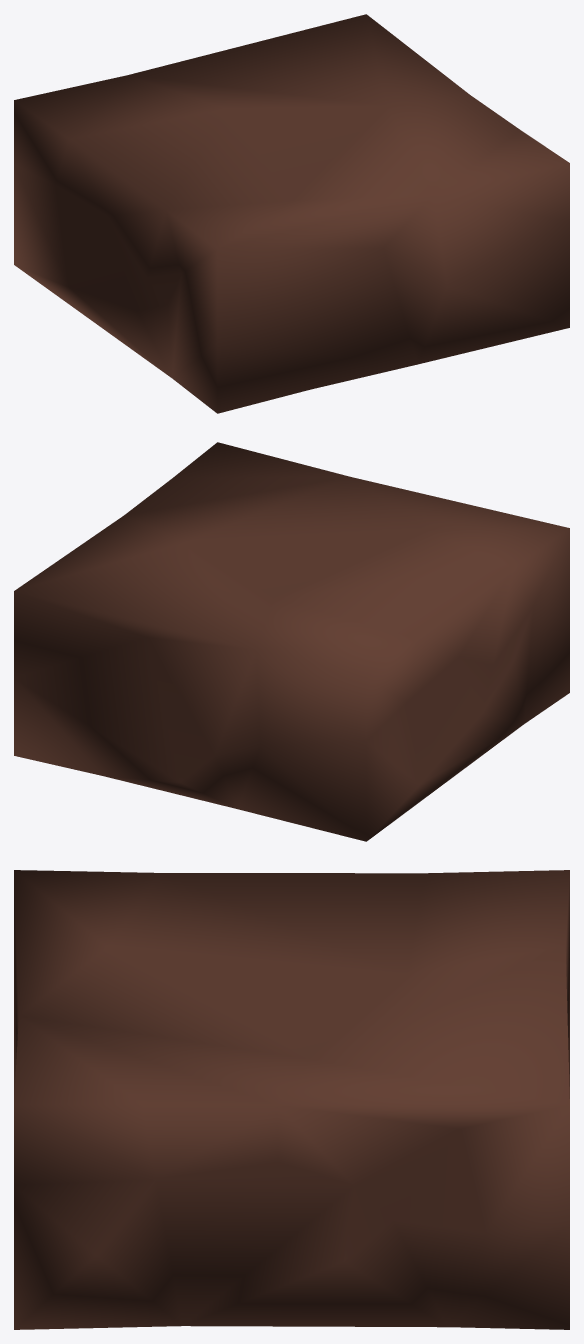
Rendered from underrock_1.glb.
The picture shows the model from 3 angles, top to bottom: view 1: azimuth 30°, elevation 25°; view 2: azimuth 150°, elevation 25°; view 3: azimuth 270°, elevation 25°; orthographic projection. The views are drawn at different scales.
Visible parts, largest first — view 1: underrock_1; view 2: underrock_1; view 3: underrock_1.
Part boxes in pixels (left/top/right/bottom): underrock_1: left=14, top=14, right=569, bottom=413; underrock_1: left=14, top=442, right=569, bottom=841; underrock_1: left=14, top=870, right=569, bottom=1329.
Size of the model in its own units: 2.8 by 1.25 by 2.8.
1 material, 1 textured.
